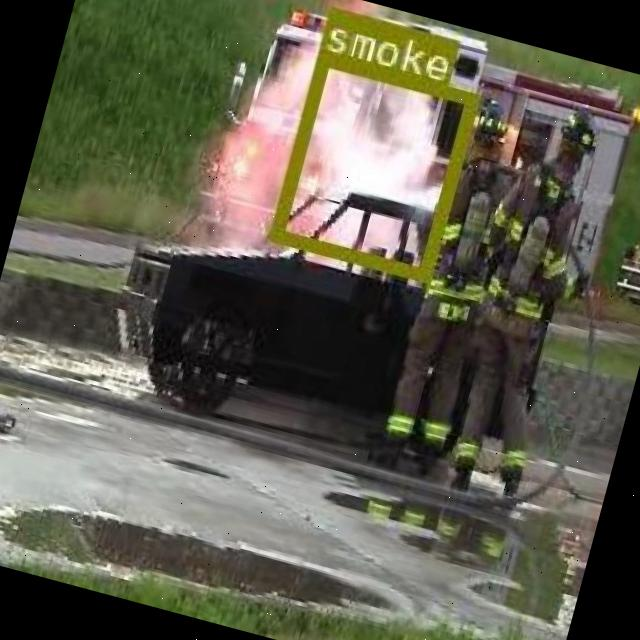smoke: (268, 47, 478, 280)
